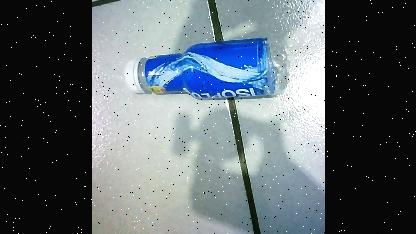Plastic Bottle: (115, 18, 292, 121)
